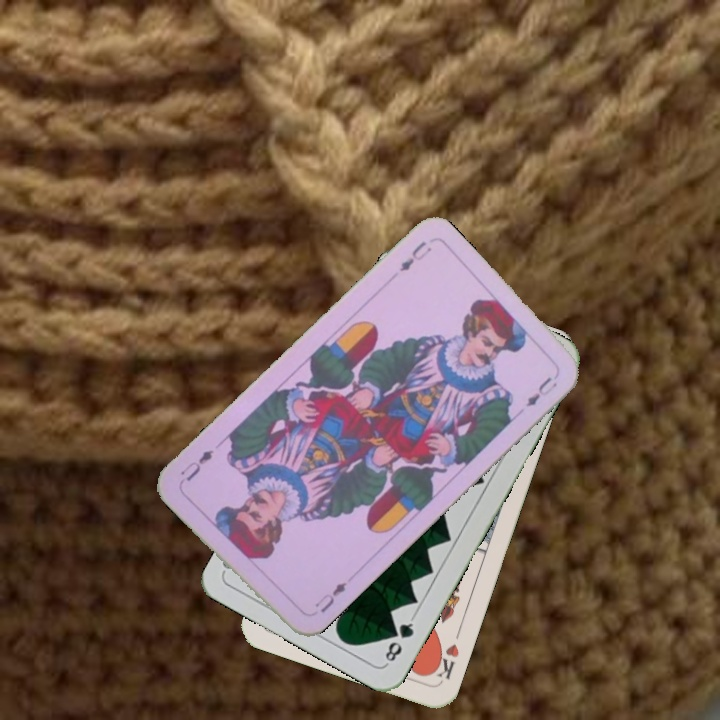EU: (310, 577, 350, 616), (395, 237, 434, 275)
G8: (381, 613, 417, 667)
HK: (427, 639, 462, 682)
